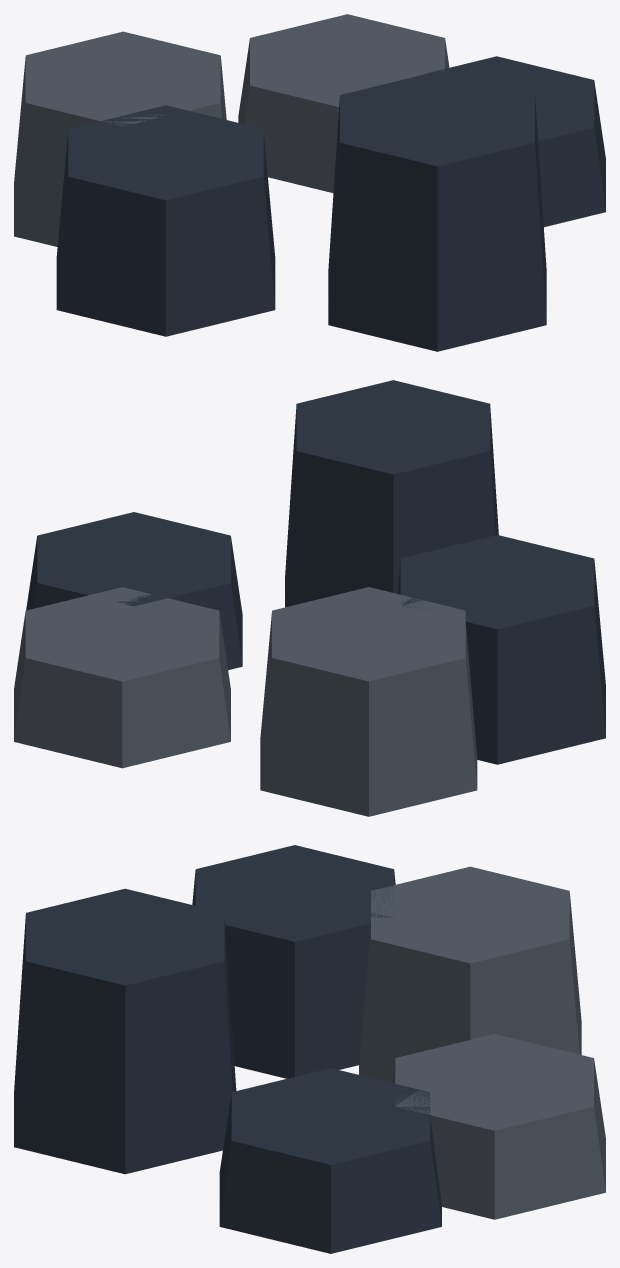
File: basalt-rubble.glb
The picture shows the model from 3 angles, top to bottom: view 1: azimuth 30°, elevation 25°; view 2: azimuth 150°, elevation 25°; view 3: azimuth 270°, elevation 25°; orthographic projection. The views are drawn at different scales.
Visible parts, largest first — view 1: basalt-rubble__body; view 2: basalt-rubble__body; view 3: basalt-rubble__body.
Boxes of the visible parts, x1=… form: basalt-rubble__body: x1=14, y1=14, x2=605, y2=351; basalt-rubble__body: x1=14, y1=380, x2=605, y2=816; basalt-rubble__body: x1=14, y1=845, x2=605, y2=1253.
Bounding box in the file's own units: 1.45 × 0.44 × 1.29.
